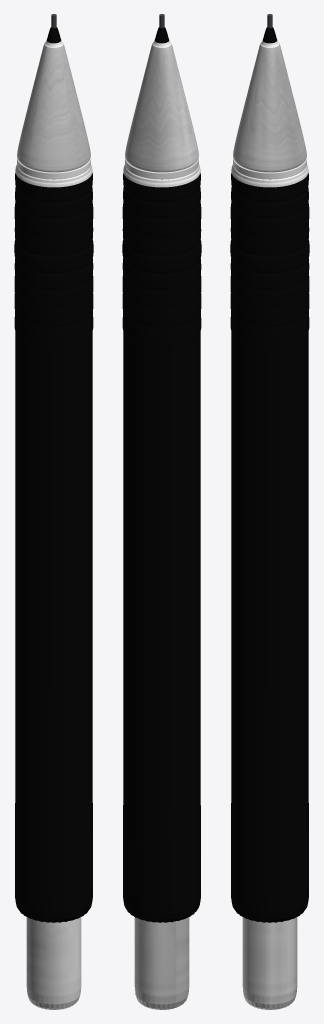
Rendered from kalem.fbx.
3 renders of one model, left to right at view 1: azimuth 90°, elevation 25°; view 2: azimuth 210°, elevation 25°; view 3: azimuth 270°, elevation 25°, orthographic.
Visible parts, largest first — view 1: Cylinder.001, Cylinder; view 2: Cylinder.001, Cylinder; view 3: Cylinder.001, Cylinder.
Boxes of the visible parts, bbox=[...] form: Cylinder.001: bbox=[14, 27, 93, 922]; Cylinder: bbox=[26, 917, 81, 1009]; Cylinder.001: bbox=[122, 27, 201, 922]; Cylinder: bbox=[134, 917, 189, 1009]; Cylinder.001: bbox=[230, 27, 309, 922]; Cylinder: bbox=[242, 917, 297, 1009].
Size of the model in its own units: 1.01 by 13.89 by 1.01.
3 materials, 2 textured.
